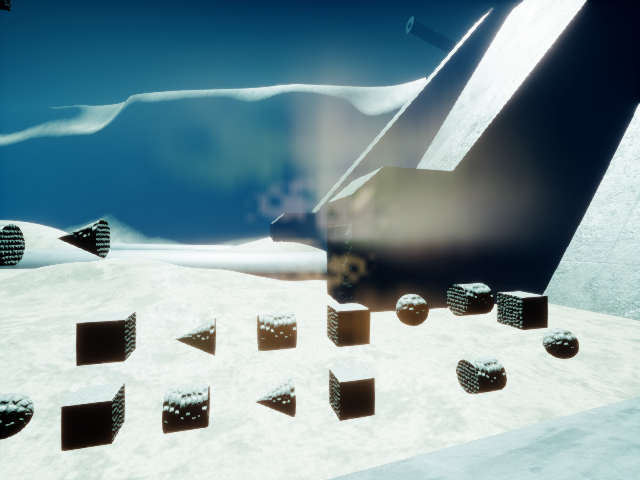Cone: (172, 309, 230, 358), (53, 213, 115, 258), (255, 379, 299, 417)
Cube: (55, 380, 132, 454), (69, 302, 145, 366), (320, 361, 380, 427), (494, 286, 555, 338), (321, 302, 380, 349)
Cylinder: (451, 343, 516, 395), (155, 384, 222, 434), (250, 309, 306, 353), (443, 274, 497, 317)
Sphere: (540, 320, 585, 369), (394, 289, 428, 328)
